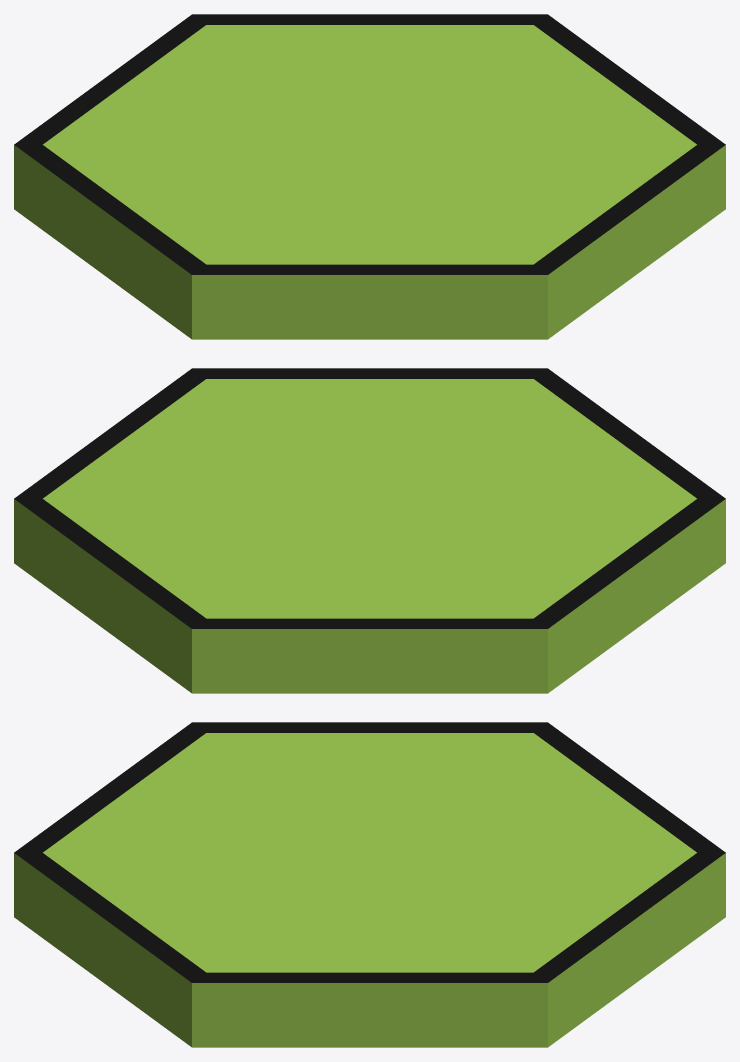
The picture shows the model from 3 angles, top to bottom: view 1: azimuth 30°, elevation 25°; view 2: azimuth 150°, elevation 25°; view 3: azimuth 270°, elevation 25°; orthographic projection.
Parts seen in each view (by area): view 1: VaromaTile; view 2: VaromaTile; view 3: VaromaTile.
Boxes of the visible parts, <box> form: VaromaTile: <box>14,14,725,339</box>; VaromaTile: <box>14,368,725,693</box>; VaromaTile: <box>14,722,725,1047</box>.
Bounding box in the file's own units: 1.73 × 0.2 × 2.
Materials: 1 (1 with a texture image).
